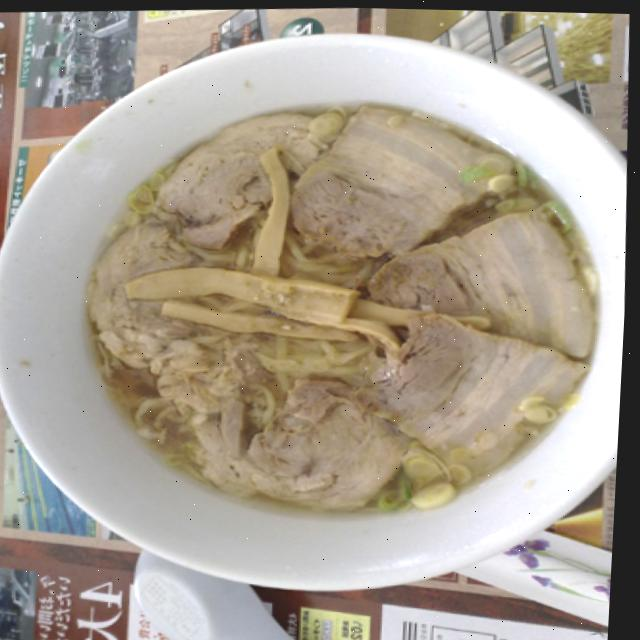面条主食: (78, 69, 621, 532)
